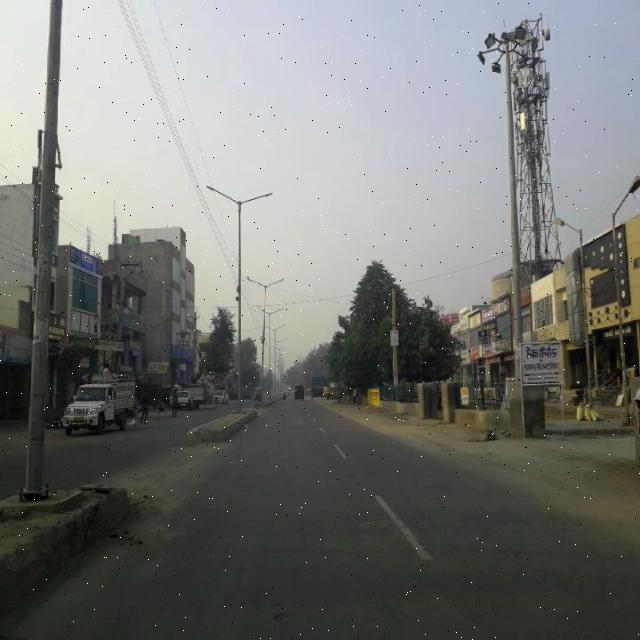D40: (264, 602, 306, 634)
D44: (368, 490, 438, 560)
